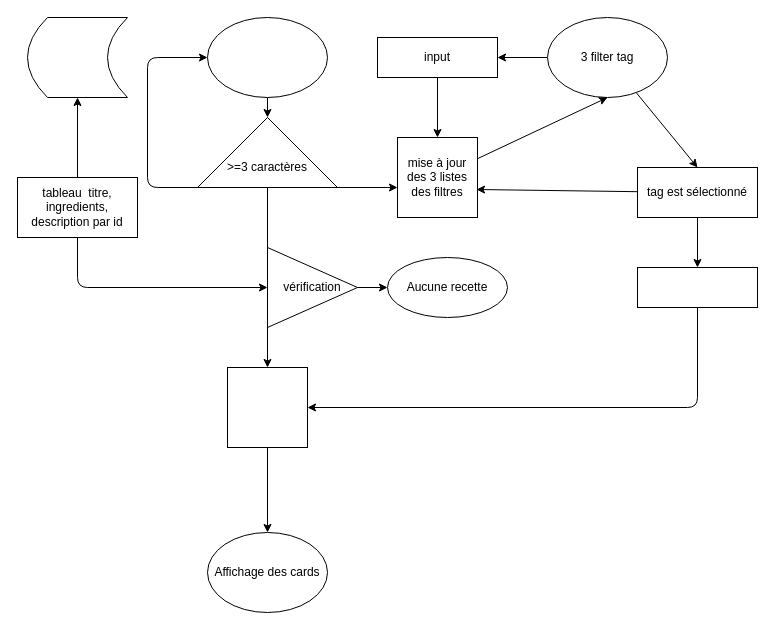
Image size: 775x630. Some labels were removed from this diagram. Here are the shapes that lost their labels. From the top down, the centre of each, then its label:
At (77,57): "recipe.json".
At (267,57): "principal input".
At (697,287): "l'affiche en dessous".
At (267,407): "mise à jour de la liste des card à afficher".
